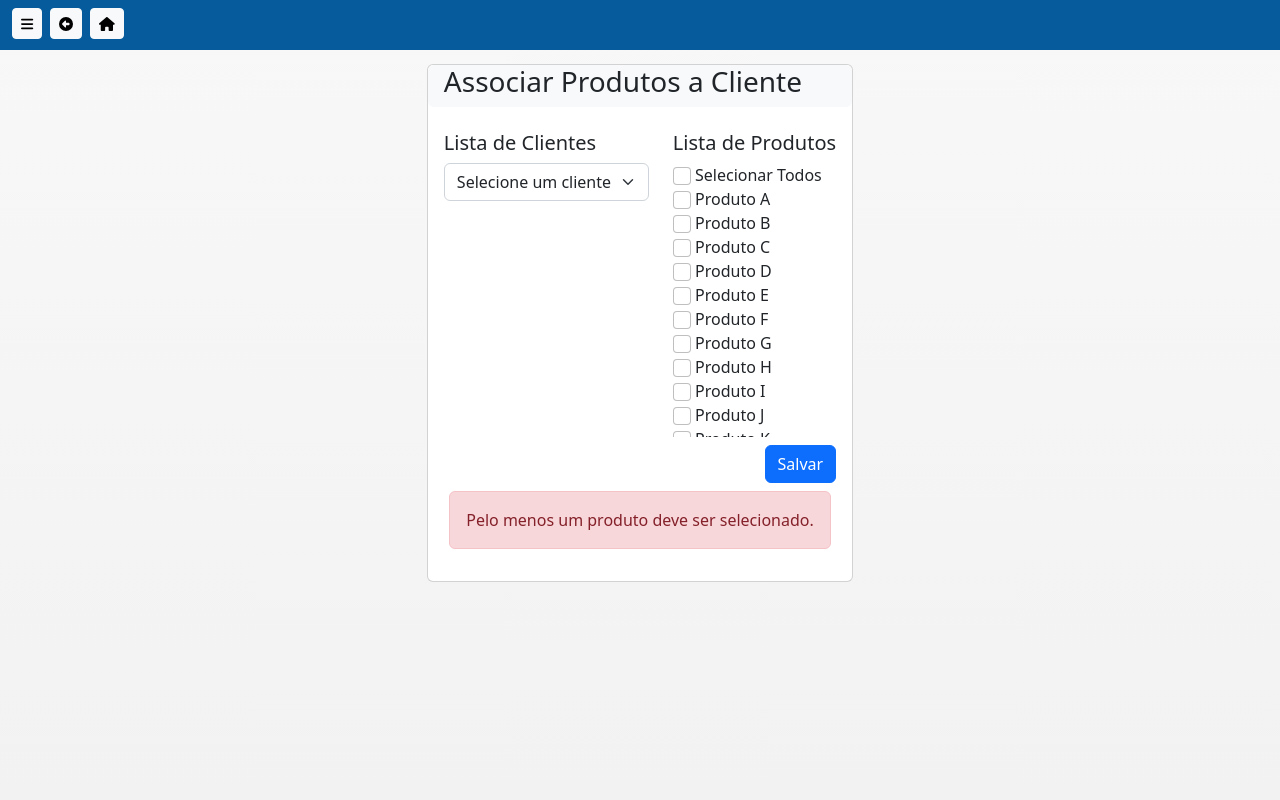
Scenario: Associar Produtos a Cliente › Deve testar validações do formulário e ao final realizar com sucesso, corrigindo os erros
Click the submit button at (801, 464), box [765,445,837,483]
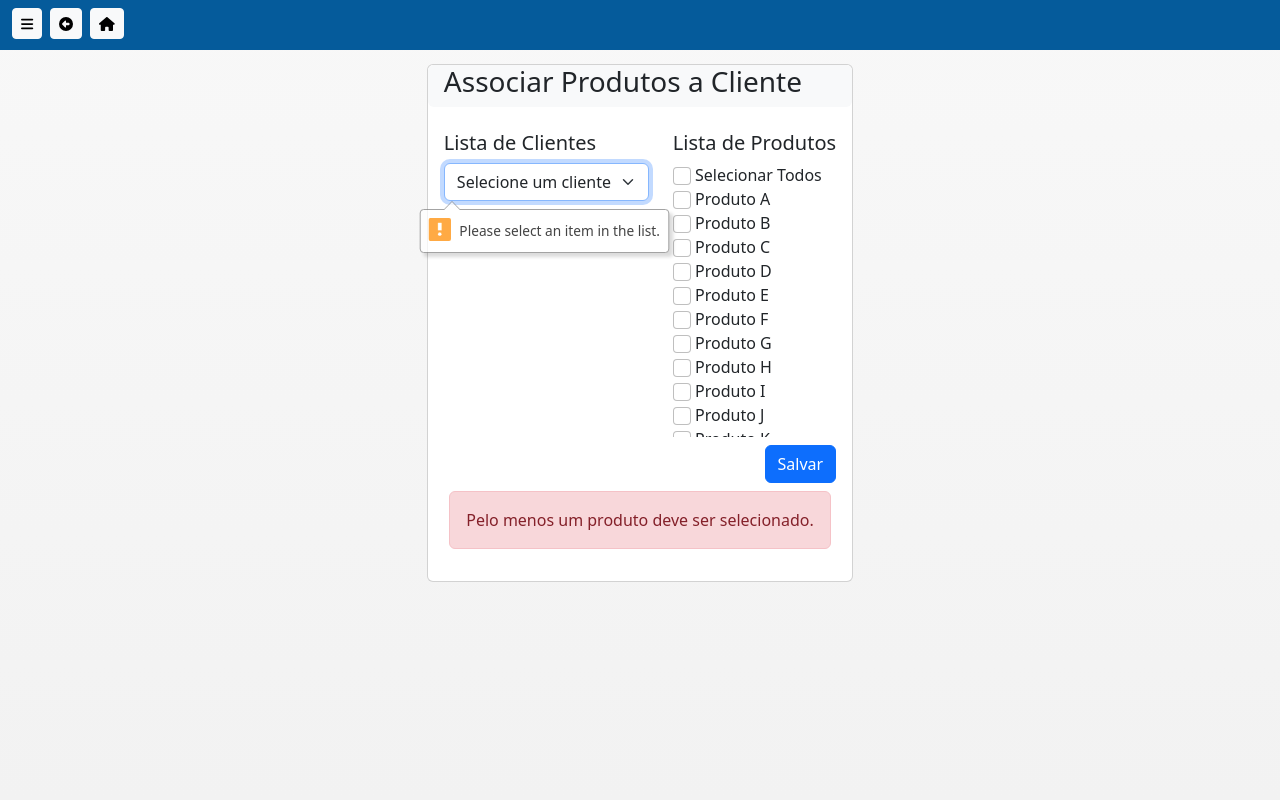
expect the submit button is enabled: met
Select "Cliente 1" in the dropdown at (547, 182), box [444,163,649,201]
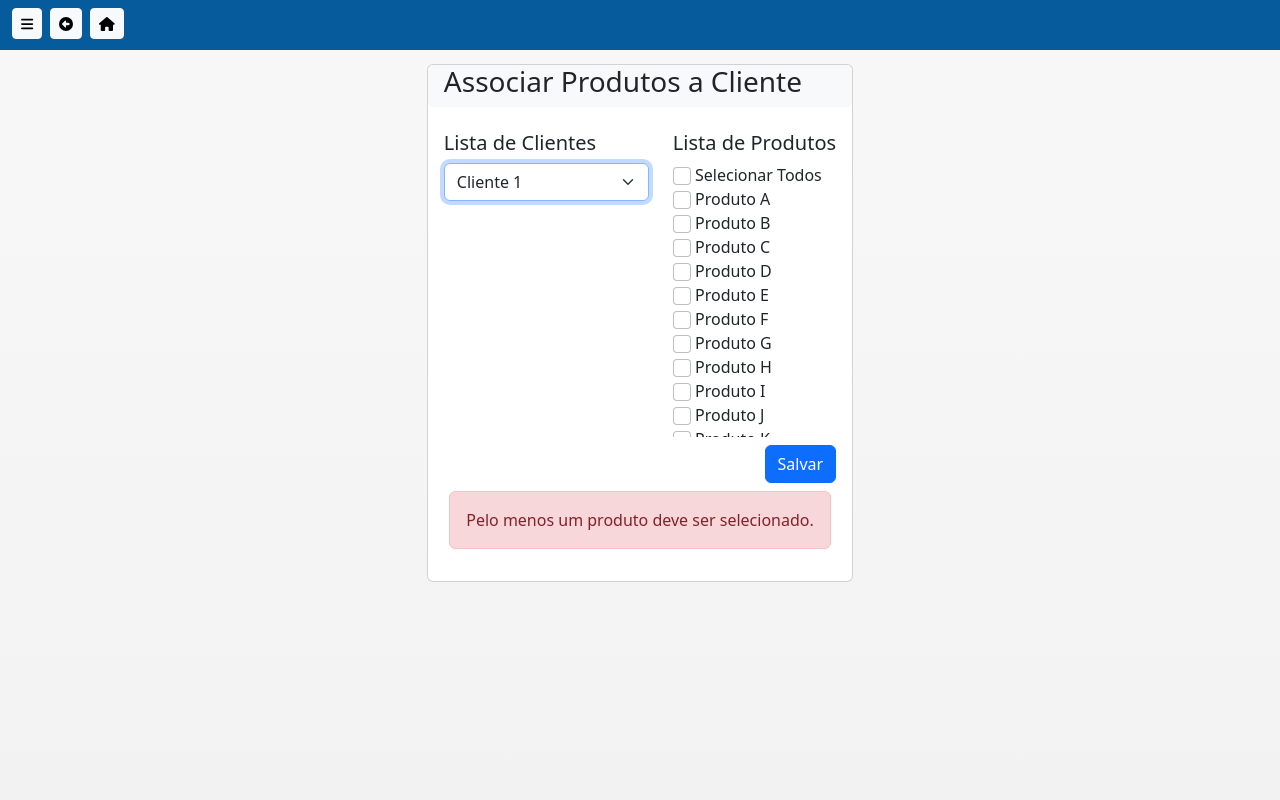
Click the submit button at (801, 464), box [765,445,837,483]
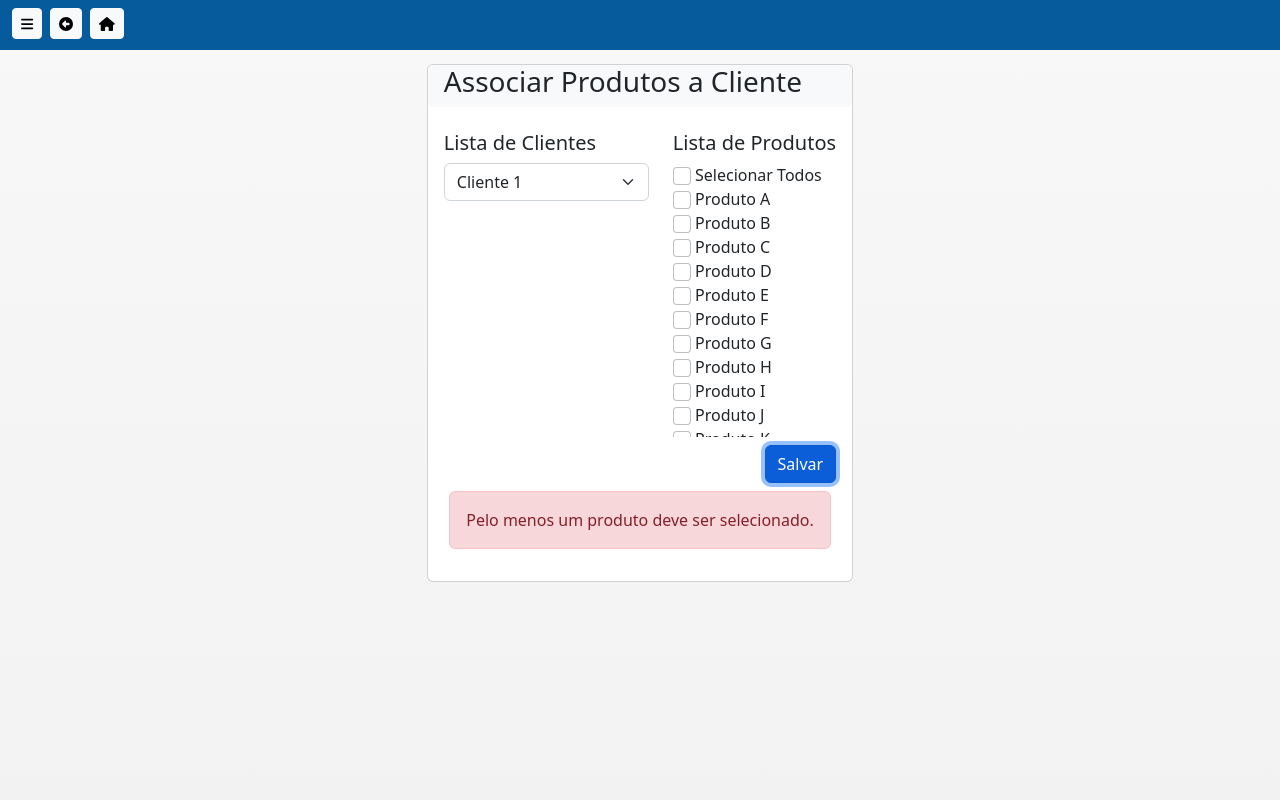
expect the submit button is enabled: met
Check the checkbox labelled "Produto C" at (682, 248), box [673,239,691,257]
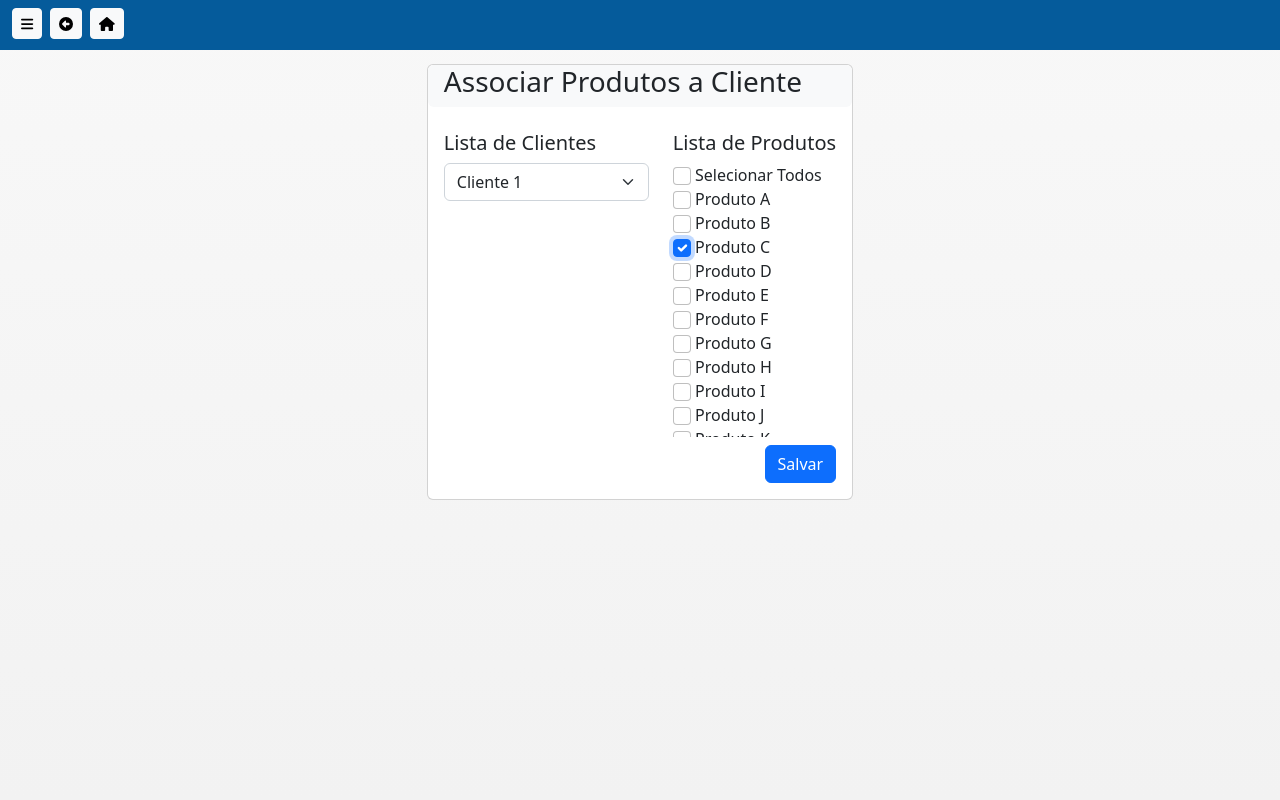
Click the submit button at (801, 464), box [765,445,837,483]
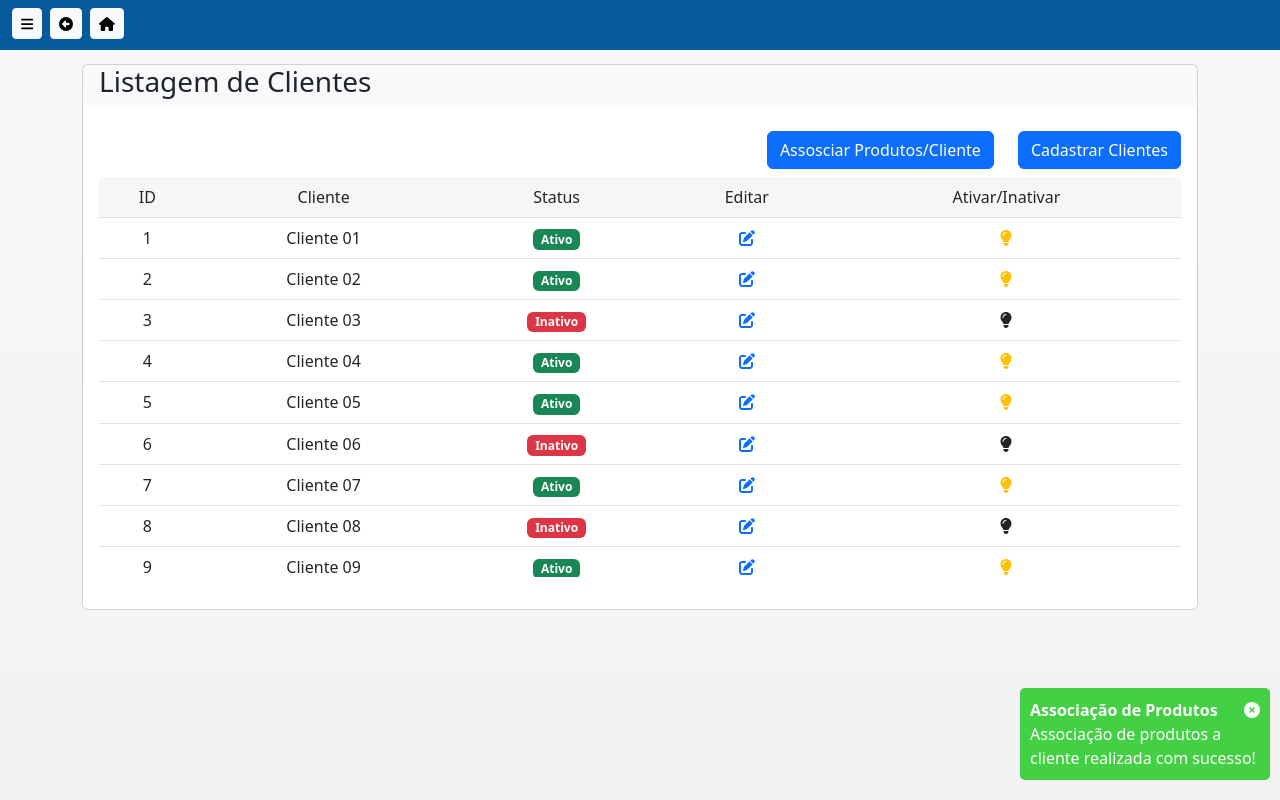
expect the element with class "notification" is shown: met, box [1020,688,1270,780]
